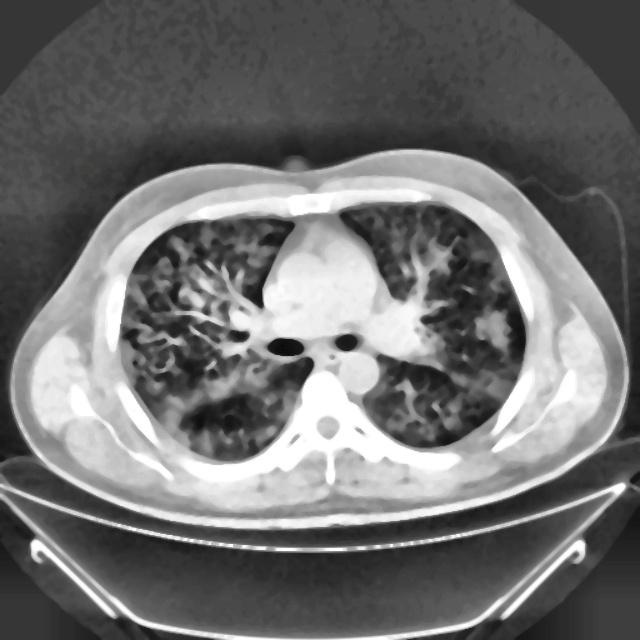covid: (9, 147, 630, 531)
